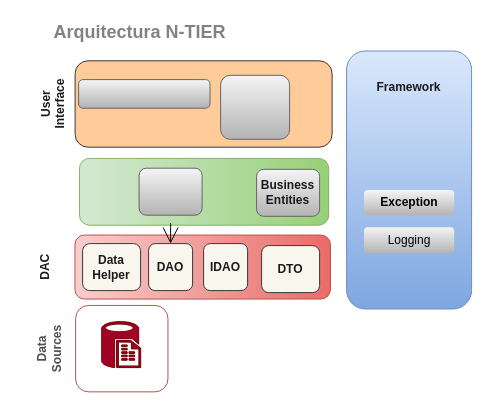
Image size: 489x410. Some labels were removed from this diagram. The centre of each missing label's shape, as x and y in pixels:
Business: point (203, 191)
Business Logic: point (170, 191)
Controller UIC: point (255, 106)
SQLITE: point (121, 344)
UI Component: point (144, 93)
